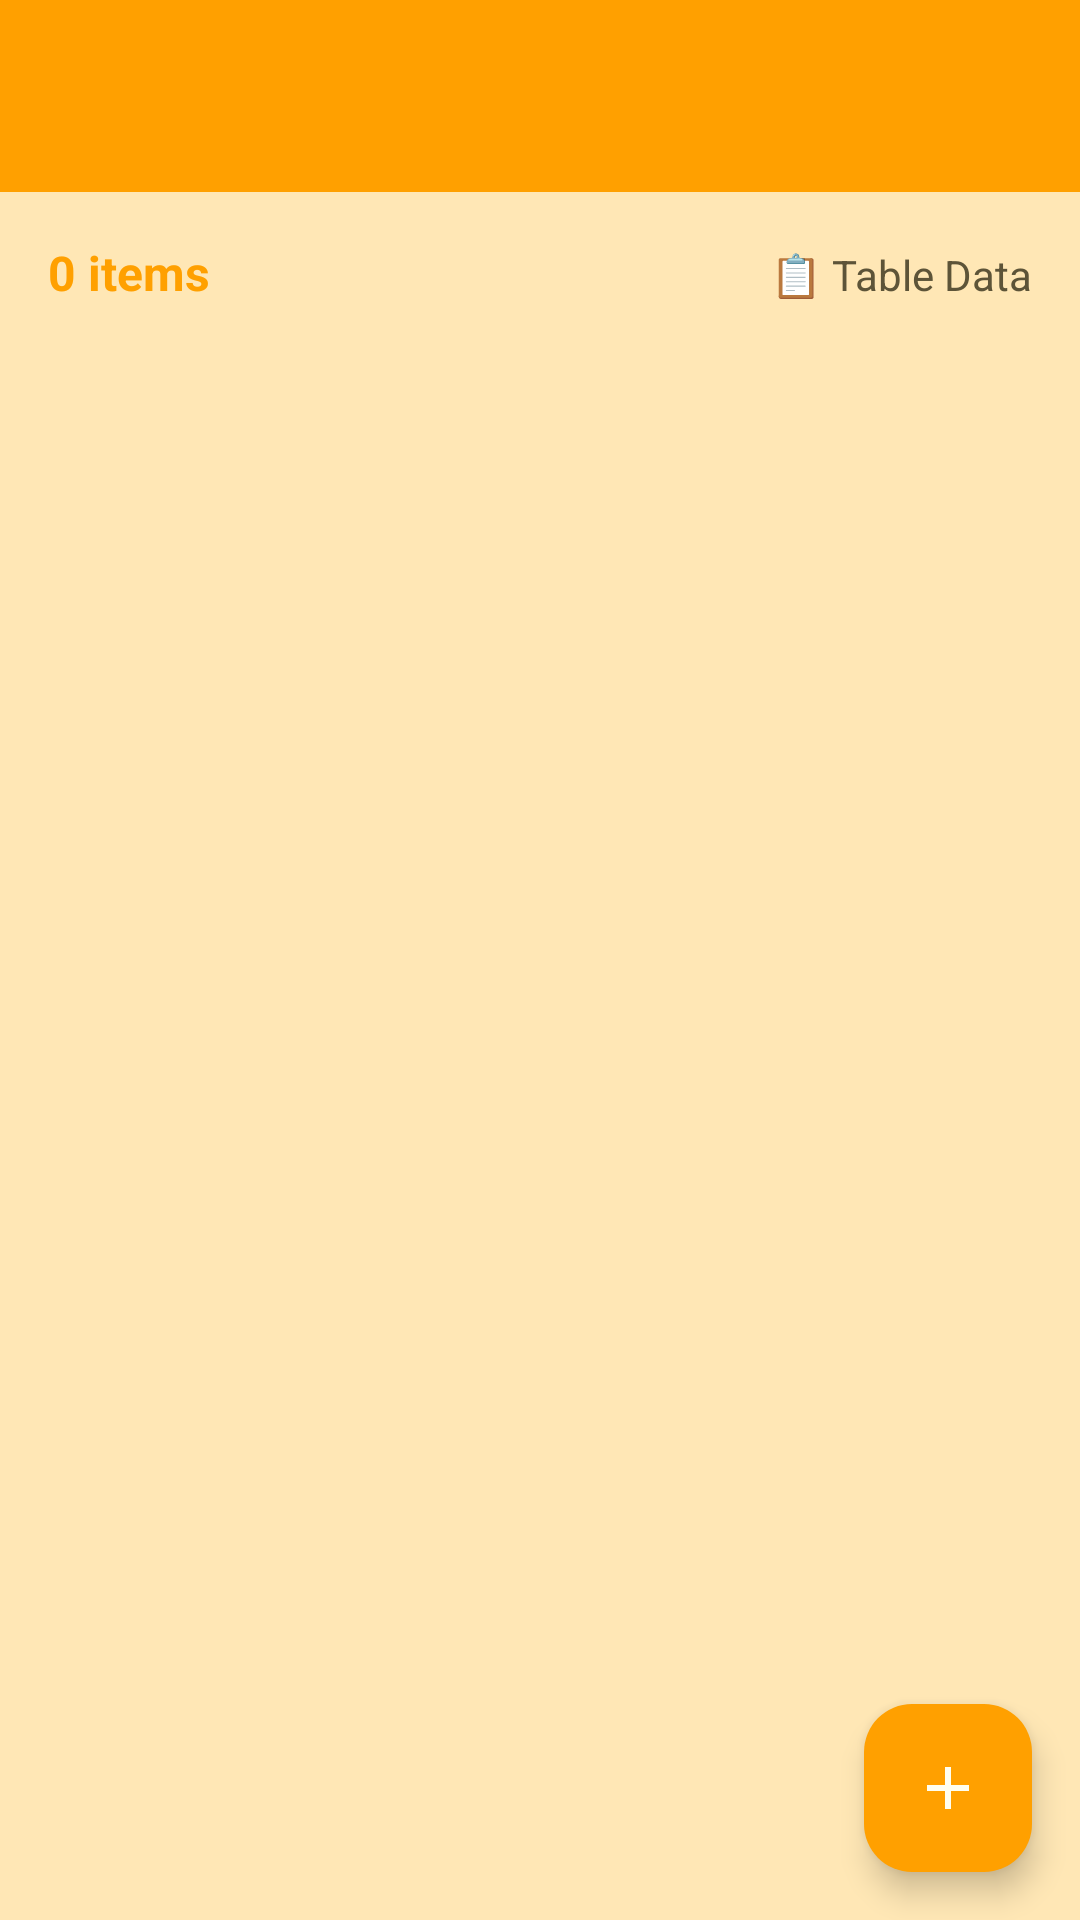

Screen size 1080 × 1920. Icon name, then its box in pixels as (x1, y1, x2, y2):
Add Item: (864, 1704, 1032, 1872)
